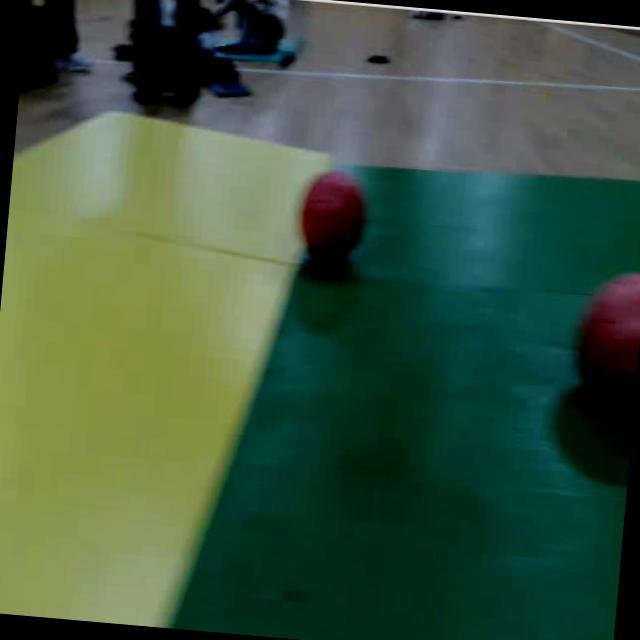red_ball: (563, 266, 640, 431), (291, 164, 378, 269)
